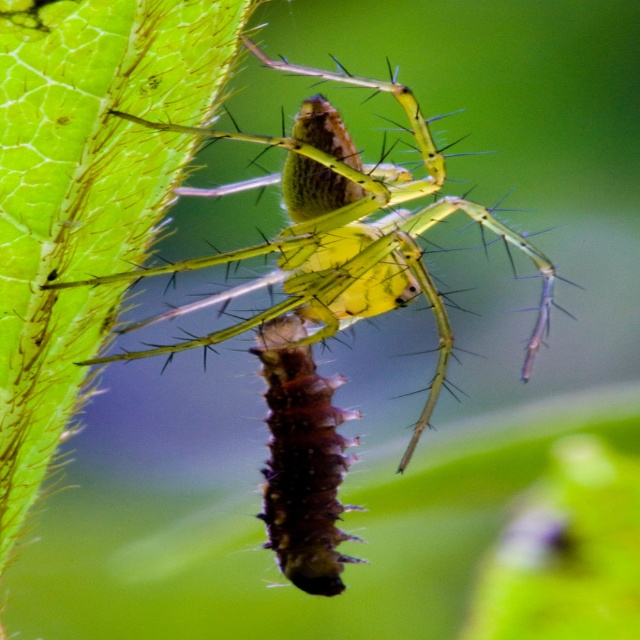Caterpillar: (228, 304, 375, 619)
